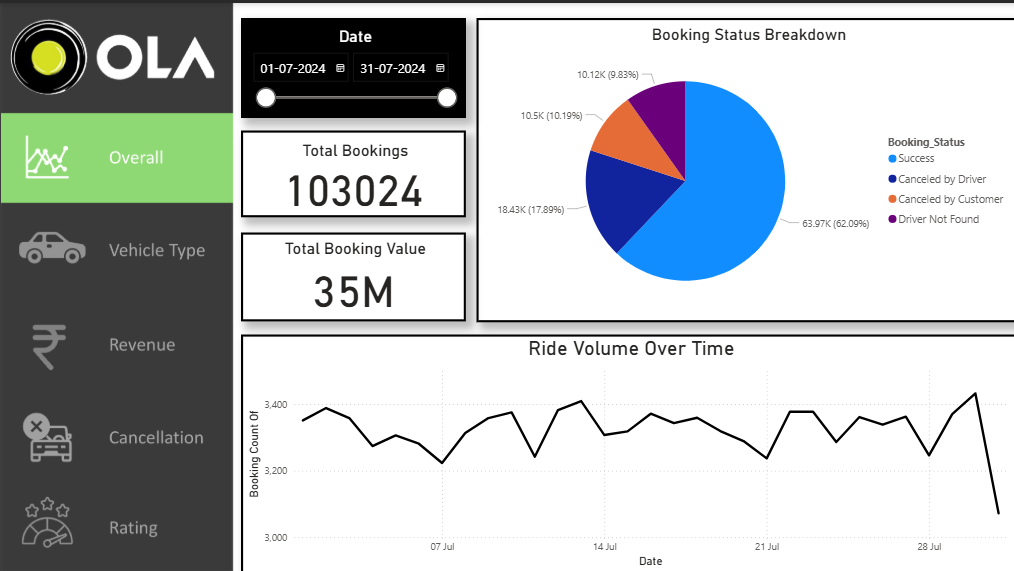

This screenshot's page, from the dashboard's own definition file:
{"tool":"powerbi","page":{"name":"Overall","canvas":[1280,720],"ordinal":0},"visuals":[{"type":"actionButton","box":[0,253.6,291.3,118.8],"z":0},{"type":"actionButton","box":[0,359.4,291.3,118.8],"z":1000},{"type":"actionButton","box":[0,478.3,291.3,118.8],"z":2000},{"type":"actionButton","box":[0,601.4,291.3,118.8],"z":3000},{"type":"lineChart","title":"Ride Volume Over Time","fields":{"Y":["CountNonNull(July.Booking_ID)"],"Category":["July.Date"]},"box":[301.5,418.5,978.5,301.5],"z":4000},{"type":"pieChart","title":"Booking Status Breakdown","fields":{"Category":["July.Booking_Status"],"Y":["CountNonNull(July.Booking_Status)"]},"box":[598.5,18.5,681.5,383.1],"z":5000},{"type":"slicer","title":"Date","fields":{"Values":["July.Date"]},"box":[301.5,18.5,283.1,126.2],"z":6000},{"type":"card","title":"Total Bookings","fields":{"Values":["CountNonNull(July.Booking_ID)"]},"box":[301.5,161.5,283.1,109.2],"z":7000},{"type":"card","title":"Total Booking Value","fields":{"Values":["Sum(July.Booking_Value)"]},"box":[301.5,289.2,283.1,112.3],"z":8000}]}

Visuals, with their boxes in screenshot pixels (x1, y1, x2, y2), scaled from the page's 1280x720 canvas onto the 1014x571 screenshot:
actionButton: Rect(0, 201, 231, 295)
actionButton: Rect(0, 285, 231, 379)
actionButton: Rect(0, 379, 231, 474)
actionButton: Rect(0, 477, 231, 570)
"Ride Volume Over Time" lineChart: Rect(239, 332, 1013, 570)
"Booking Status Breakdown" pieChart: Rect(474, 15, 1013, 318)
"Date" slicer: Rect(239, 15, 463, 115)
"Total Bookings" card: Rect(239, 128, 463, 215)
"Total Booking Value" card: Rect(239, 229, 463, 318)
